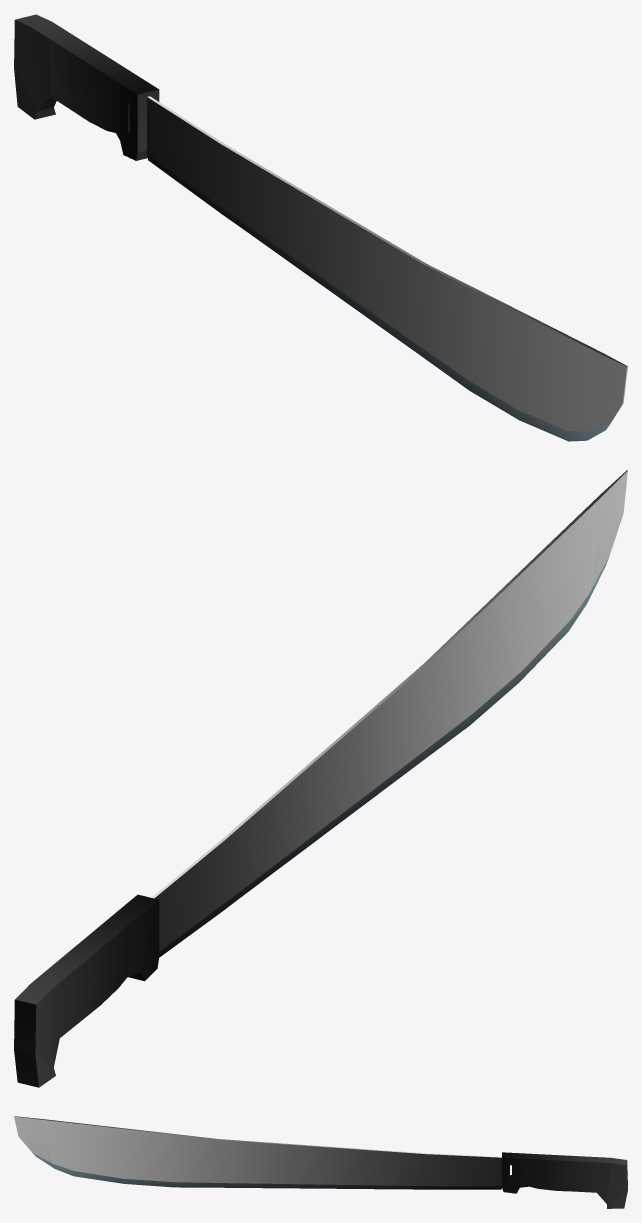
Rendered from Machete.glb.
The picture shows the model from 3 angles, top to bottom: view 1: azimuth 30°, elevation 25°; view 2: azimuth 150°, elevation 25°; view 3: azimuth 270°, elevation 25°; orthographic projection. The views are drawn at different scales.
Visible parts, largest first — view 1: Cube.014, Cube.006; view 2: Cube.014, Cube.006; view 3: Cube.014, Cube.006.
Part boxes in pixels (bbox=[...]): Cube.014: bbox=[147, 96, 627, 441]; Cube.006: bbox=[14, 14, 159, 160]; Cube.014: bbox=[151, 470, 627, 957]; Cube.006: bbox=[14, 894, 159, 1087]; Cube.014: bbox=[14, 1116, 501, 1189]; Cube.006: bbox=[502, 1152, 627, 1208].
Bounding box in the file's own units: 0.0213 × 0.1677 × 1.04.
1 material, 1 textured.
